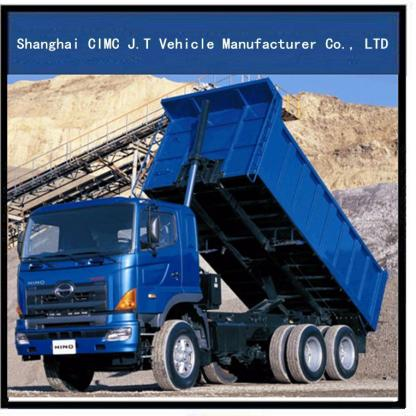dump_truck: (12, 80, 388, 391)
